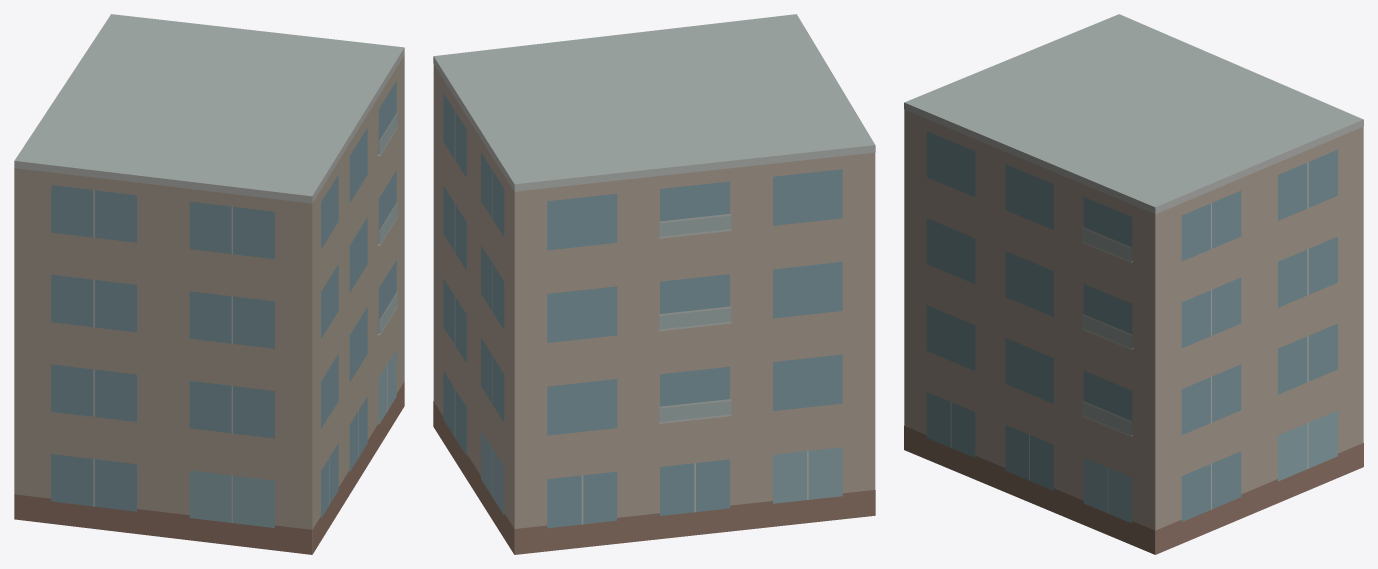
The model's file is survey-upis-33018588.glb.
3 views of the same model, side by side, from view 1: azimuth 30°, elevation 25°; view 2: azimuth 150°, elevation 25°; view 3: azimuth 270°, elevation 25° (orthographic). The views are drawn at different scales.
Visible parts, largest first — view 1: survey-upis-33018588.tmp; view 2: survey-upis-33018588.tmp; view 3: survey-upis-33018588.tmp.
Boxes of the visible parts, <box> form: survey-upis-33018588.tmp: <box>14,14,404,554</box>; survey-upis-33018588.tmp: <box>433,14,875,554</box>; survey-upis-33018588.tmp: <box>904,14,1363,554</box>.
Bounding box in the file's own units: 14.57 × 12.2 × 14.63.
